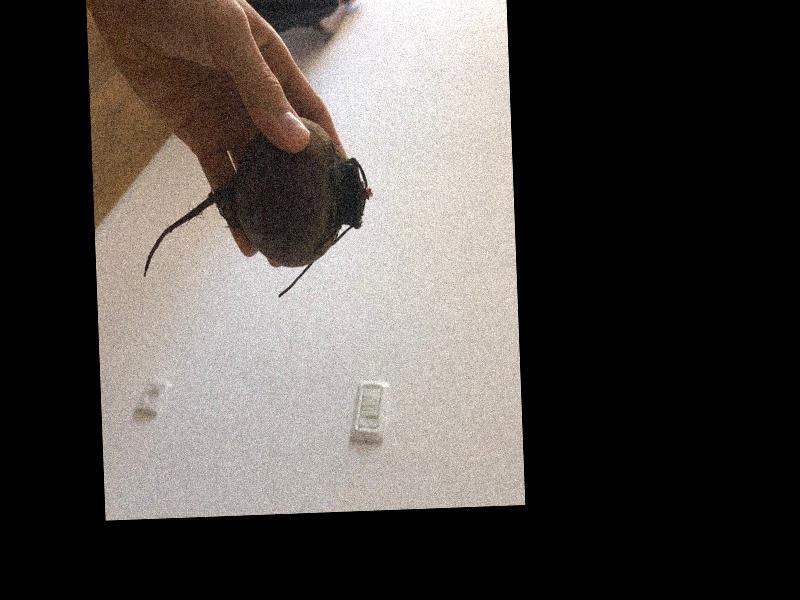Beet: (137, 113, 375, 304)
